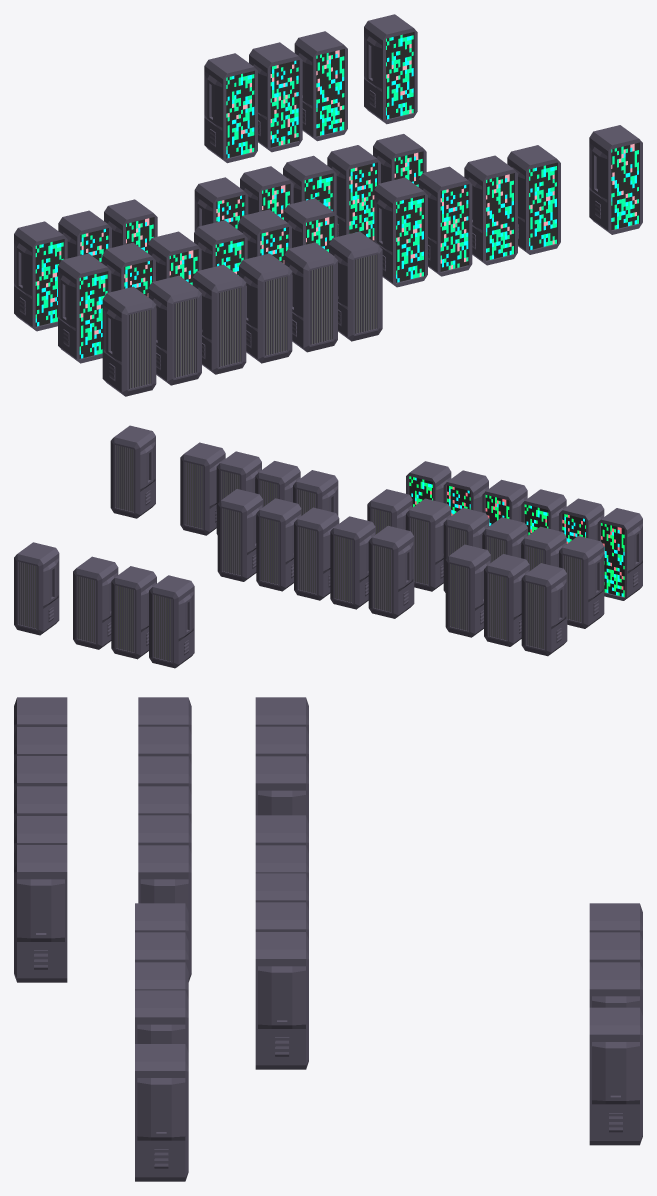
Rendered from labirintodeserver.fbx.
3 renders of one model, top to bottom at view 1: azimuth 30°, elevation 25°; view 2: azimuth 150°, elevation 25°; view 3: azimuth 270°, elevation 25°, orthographic. The views are drawn at different scales.
Visible parts, largest first — view 1: Cube.140, Cube.161, Cube.163, Cube.158, Cube.155, Cube.137, Cube.141, Cube.136, Cube.157, Cube.139, Cube.160, Cube.147 (+17 smaller); view 2: Cube.150, Cube.147, Cube.161, Cube.163, Cube.158, Cube.140, Cube.154, Cube.149, Cube.151, Cube.160, Cube.141, Cube.148 (+17 smaller); view 3: Cube.161, Cube.154, Cube.135, Cube.163, Cube.146, Cube.149, Cube.162, Cube.160, Cube.138, Cube.142, Cube.143, Cube.145 (+17 smaller).
Part boxes in pixels (x1=…): Cube.140: x1=102, y1=286, x2=156, y2=396; Cube.161: x1=364, y1=14, x2=417, y2=124; Cube.163: x1=589, y1=125, x2=642, y2=234; Cube.158: x1=204, y1=53, x2=257, y2=163; Cube.155: x1=374, y1=177, x2=427, y2=287; Cube.137: x1=239, y1=253, x2=292, y2=363; Cube.141: x1=58, y1=253, x2=111, y2=363; Cube.136: x1=284, y1=242, x2=337, y2=352; Cube.157: x1=464, y1=155, x2=517, y2=265; Cube.139: x1=148, y1=275, x2=201, y2=385; Cube.160: x1=294, y1=31, x2=347, y2=141; Cube.147: x1=14, y1=221, x2=67, y2=331; Cube.150: x1=368, y1=525, x2=414, y2=618; Cube.147: x1=521, y1=563, x2=567, y2=656; Cube.161: x1=14, y1=542, x2=59, y2=635; Cube.163: x1=110, y1=425, x2=155, y2=518; Cube.158: x1=149, y1=575, x2=194, y2=668; Cube.140: x1=597, y1=508, x2=642, y2=600; Cube.154: x1=217, y1=489, x2=262, y2=581; Cube.149: x1=445, y1=544, x2=490, y2=637; Cube.151: x1=330, y1=516, x2=375, y2=609; Cube.160: x1=73, y1=556, x2=118, y2=649; Cube.141: x1=559, y1=536, x2=604, y2=628; Cube.148: x1=484, y1=554, x2=529, y2=646; Cube.161: x1=589, y1=1007, x2=642, y2=1145; Cube.154: x1=255, y1=932, x2=308, y2=1069; Cube.135: x1=14, y1=845, x2=67, y2=982; Cube.163: x1=135, y1=1044, x2=188, y2=1181; Cube.146: x1=138, y1=845, x2=191, y2=981; Cube.149: x1=255, y1=756, x2=308, y2=823; Cube.162: x1=135, y1=990, x2=188, y2=1052; Cube.160: x1=589, y1=962, x2=642, y2=1015; Cube.138: x1=14, y1=756, x2=67, y2=794; Cube.142: x1=138, y1=726, x2=191, y2=764; Cube.143: x1=138, y1=756, x2=191, y2=794; Cube.145: x1=138, y1=815, x2=191, y2=853.
Bounding box in the file's own units: 5840 × 879 × 4169.
